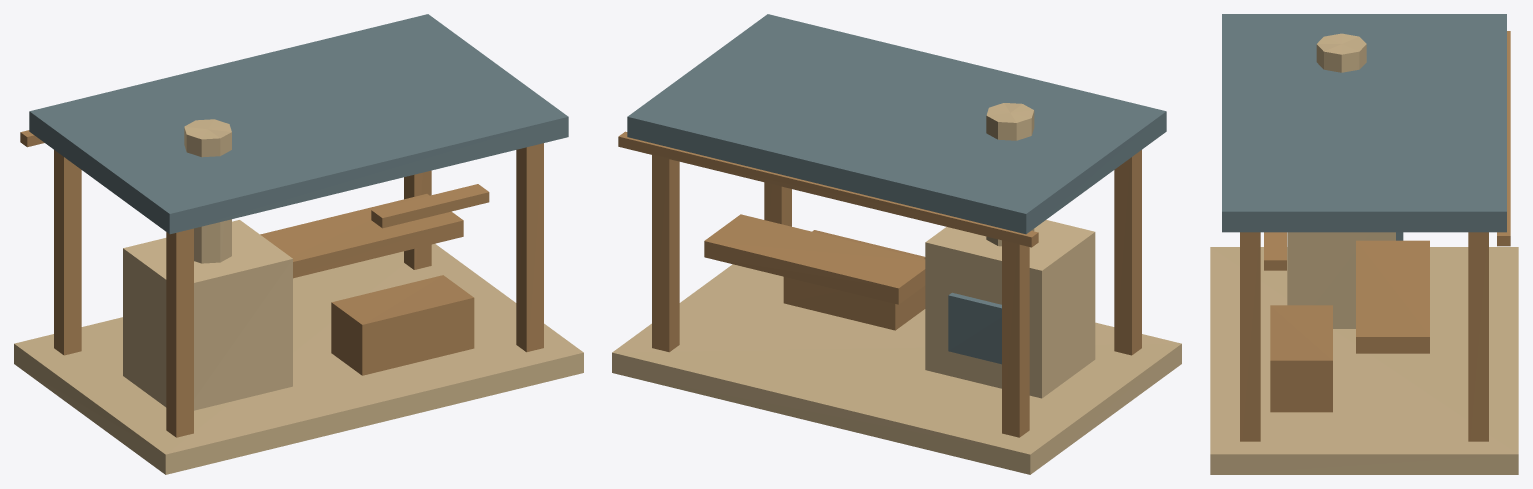
The model's file is Farm-to-table-Restaurant.glb.
The picture shows the model from 3 angles, left to right: view 1: azimuth 30°, elevation 25°; view 2: azimuth 150°, elevation 25°; view 3: azimuth 270°, elevation 25°; orthographic projection.
Parts seen in each view (by area): view 1: cookhouse-static-cook-iron, cookhouse-static-cook-cream, cookhouse-static-cook-timber, cookhouse-static-cook-stone, cookhouse-static-cook-teal; view 2: cookhouse-static-cook-iron, cookhouse-static-cook-cream, cookhouse-static-cook-timber, cookhouse-static-cook-stone, cookhouse-static-cook-teal; view 3: cookhouse-static-cook-iron, cookhouse-static-cook-cream, cookhouse-static-cook-timber, cookhouse-static-cook-stone, cookhouse-static-cook-teal.
Boxes of the visible parts, x1,y1,x2,y2 form: cookhouse-static-cook-iron: (29,14,568,234); cookhouse-static-cook-cream: (14,244,583,474); cookhouse-static-cook-timber: (54,143,543,437); cookhouse-static-cook-stone: (123,119,292,410); cookhouse-static-cook-teal: (20,130,489,228); cookhouse-static-cook-iron: (627,14,1166,364); cookhouse-static-cook-cream: (612,264,1181,474); cookhouse-static-cook-timber: (652,150,1141,437); cookhouse-static-cook-stone: (925,103,1095,398); cookhouse-static-cook-teal: (618,131,1038,247); cookhouse-static-cook-iron: (1222,14,1506,240); cookhouse-static-cook-cream: (1210,247,1518,474); cookhouse-static-cook-timber: (1240,232,1488,441); cookhouse-static-cook-stone: (1287,33,1395,328); cookhouse-static-cook-teal: (1264,31,1510,270).
Size of the model in its own units: 4.3 by 2.67 by 2.7.
